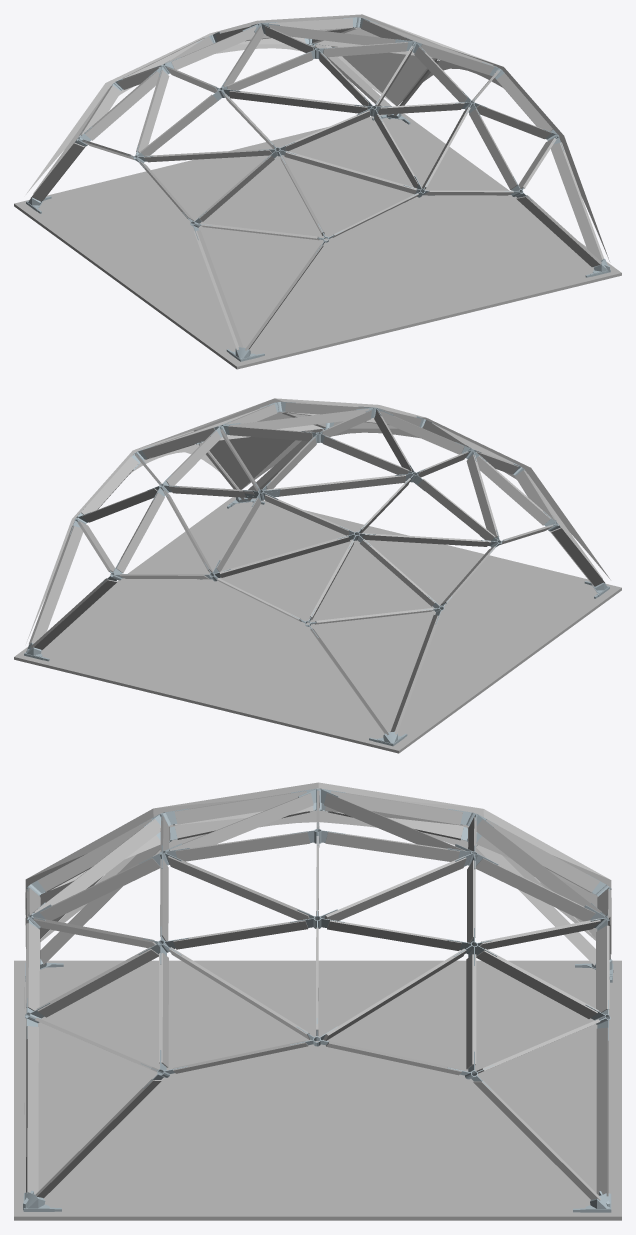
The model's file is eco-100.glb.
The picture shows the model from 3 angles, top to bottom: view 1: azimuth 30°, elevation 25°; view 2: azimuth 150°, elevation 25°; view 3: azimuth 270°, elevation 25°; orthographic projection. The views are drawn at different scales.
Parts seen in each view (by area): view 1: Box646, Layer:Коннекторы054, Layer:Коннекторы053, Layer:Коннекторы051, Layer:Коннекторы052, Group1241, Group1221, Line1893, Line2000, Group1222, GeoSphere038, Object127_$AssimpFbx$_Scaling (+2 smaller); view 2: Box646, Layer:Коннекторы052, Layer:Коннекторы051, Layer:Коннекторы053, Layer:Коннекторы054, Group1241, Line2001, Group1221, GeoSphere038, Line2000, Group1220, Object127_$AssimpFbx$_Scaling (+3 smaller); view 3: Box646, Layer:Коннекторы054, Layer:Коннекторы052, Layer:Коннекторы051, Layer:Коннекторы053, GeoSphere038, Group1220, Group1222, Line2002, Group1241, Object131_$AssimpFbx$_Scaling, Object126_$AssimpFbx$_Scaling (+1 smaller).
Part boxes in pixels (x1,y1,x2,y2): Box646: [14, 113, 621, 369]; Layer:Коннекторы054: [323, 42, 603, 267]; Layer:Коннекторы053: [139, 89, 418, 350]; Layer:Коннекторы051: [31, 26, 264, 201]; Layer:Коннекторы052: [238, 18, 496, 115]; Group1241: [331, 46, 434, 105]; Group1221: [140, 52, 312, 155]; Line1893: [26, 33, 394, 194]; Line2000: [398, 48, 609, 261]; Group1222: [319, 53, 418, 187]; GeoSphere038: [211, 14, 497, 64]; Object127_$AssimpFbx$_Scaling: [125, 80, 343, 253]; Box646: [14, 497, 621, 753]; Layer:Коннекторы052: [29, 429, 259, 650]; Layer:Коннекторы051: [217, 475, 495, 735]; Layer:Коннекторы053: [374, 410, 604, 586]; Layer:Коннекторы054: [142, 402, 397, 500]; Group1241: [194, 430, 305, 489]; Line2001: [242, 417, 610, 579]; Group1221: [323, 435, 495, 540]; GeoSphere038: [135, 398, 425, 449]; Line2000: [26, 430, 239, 643]; Group1220: [216, 437, 316, 571]; Object127_$AssimpFbx$_Scaling: [395, 442, 560, 552]; Box646: [14, 960, 621, 1220]; Layer:Коннекторы054: [25, 836, 319, 1198]; Layer:Коннекторы052: [323, 856, 609, 1200]; Layer:Коннекторы051: [324, 791, 610, 965]; Layer:Коннекторы053: [26, 791, 313, 964]; GeoSphere038: [27, 782, 609, 879]; Group1220: [325, 832, 595, 921]; Group1222: [40, 831, 310, 920]; Line2002: [40, 810, 611, 954]; Group1241: [25, 854, 611, 953]; Object131_$AssimpFbx$_Scaling: [25, 926, 337, 1088]; Object126_$AssimpFbx$_Scaling: [447, 928, 610, 1090].
Size of the model in its own units: 10417 by 4997 by 10453.
